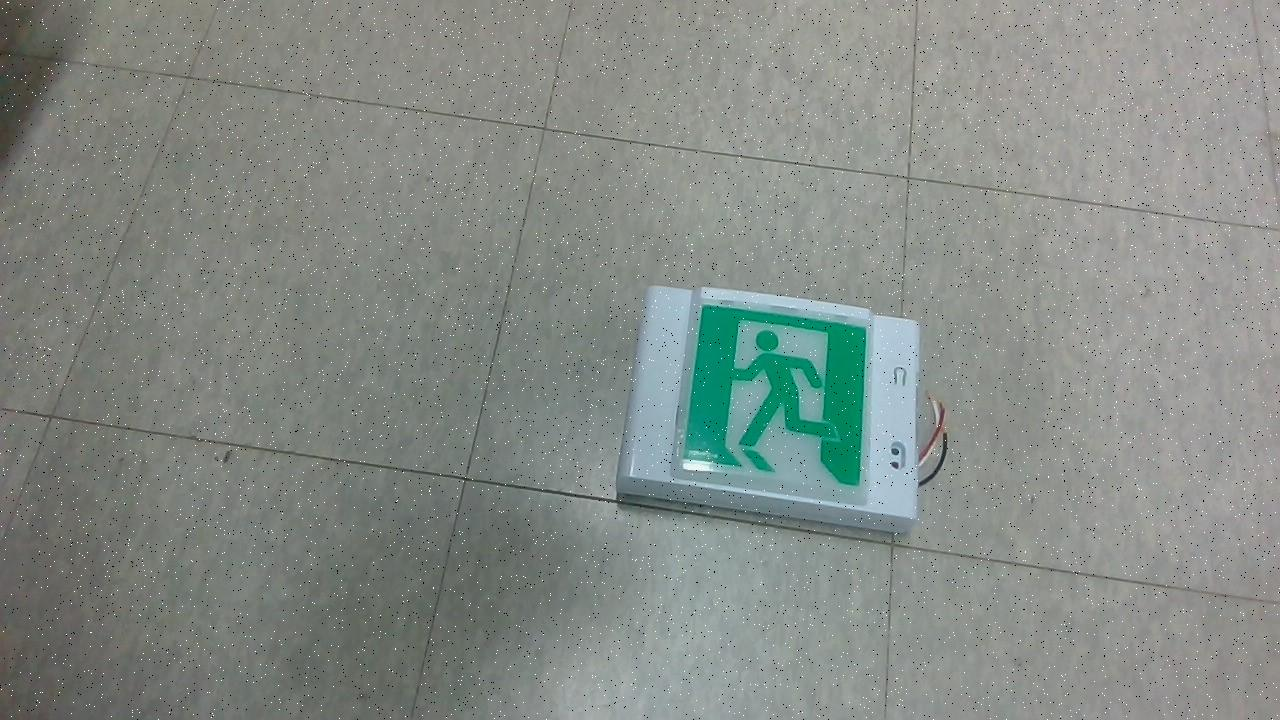emergency_exit: (615, 284, 921, 535)
